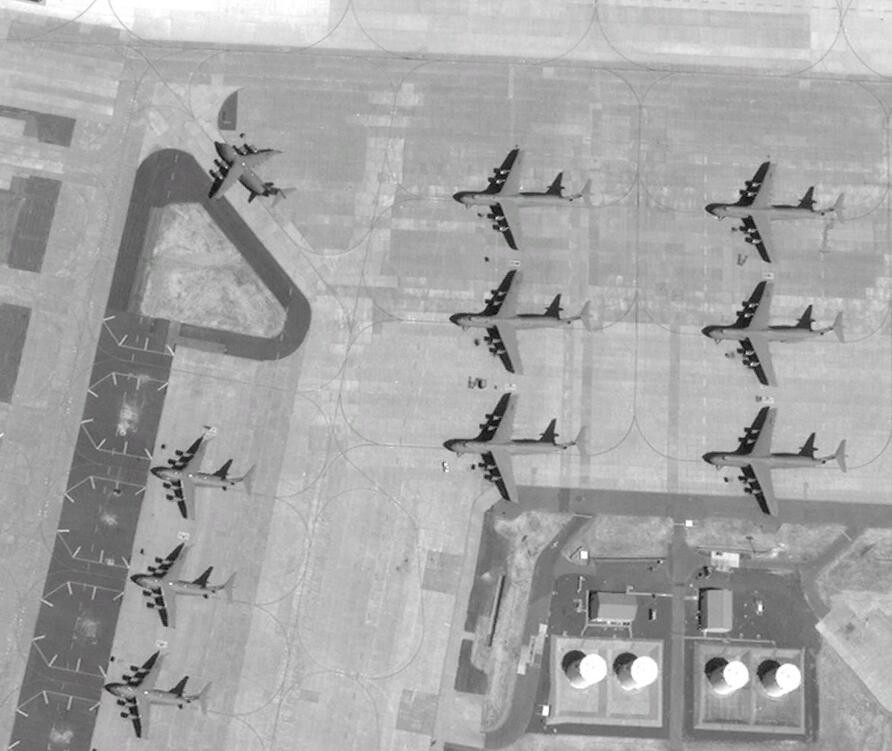A3: (132, 543, 235, 628), (107, 655, 211, 739), (152, 438, 252, 518), (211, 139, 282, 205)
A4: (706, 408, 846, 517), (446, 394, 584, 502), (703, 280, 843, 386), (455, 271, 592, 376), (456, 148, 593, 250), (707, 163, 843, 262)
